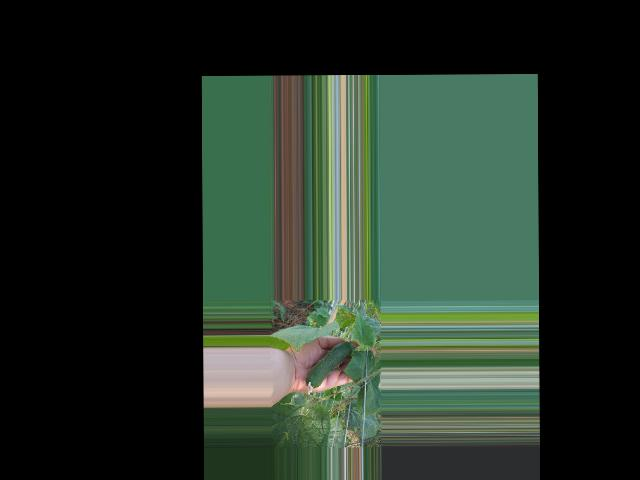cucumber: (305, 342, 352, 395)
